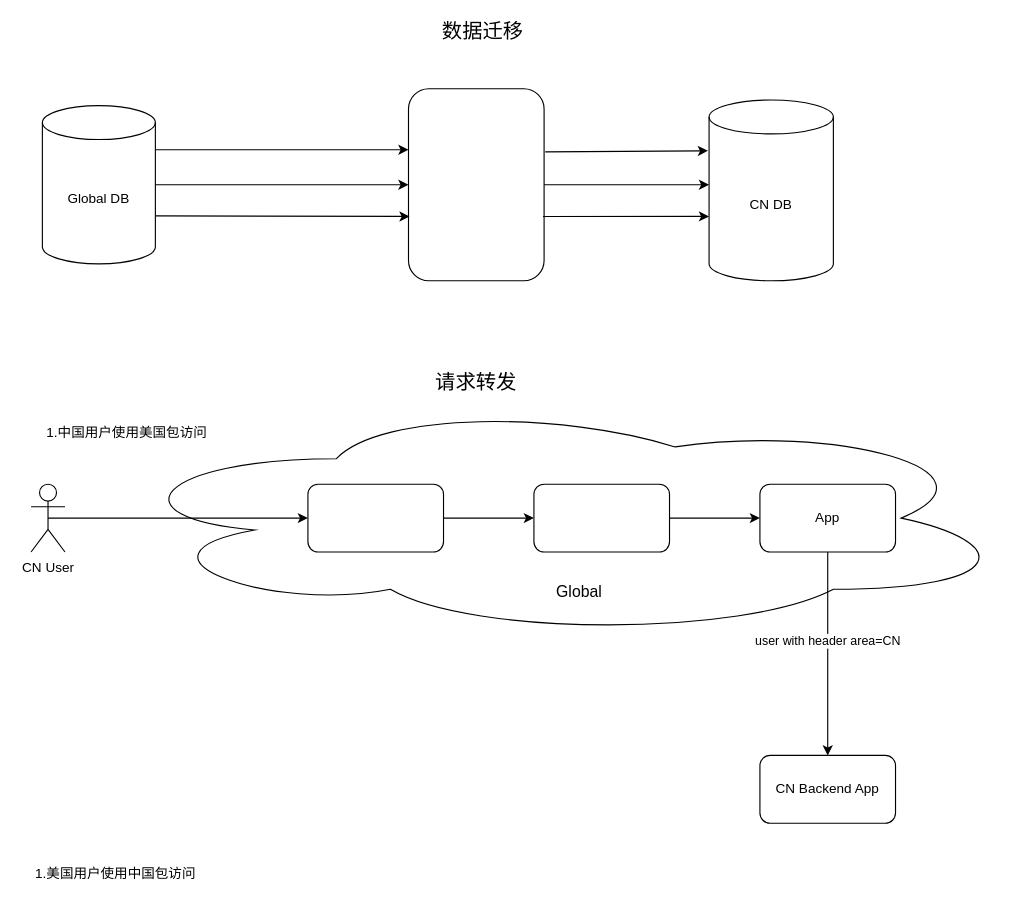
The diagram is 1034 pixels wide and 910 high, and some of its shapes have lost their labels. The shapes that lost their labels are listed below. From the top down, each one's centre as x and y in pixels, then its label:
At point (475, 184): "DATAX".
At point (375, 517): "NGINX".
At point (601, 517): "GateWay".
